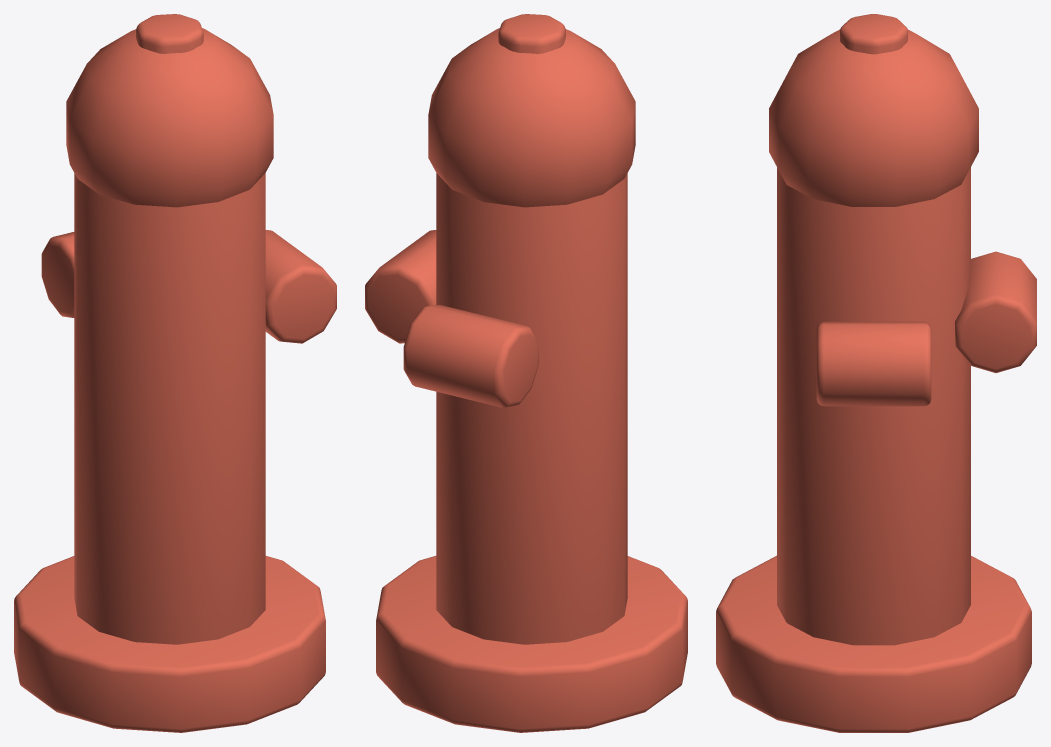
The model's file is th6_hydrant.glb.
The picture shows the model from 3 angles, left to right: view 1: azimuth 30°, elevation 25°; view 2: azimuth 150°, elevation 25°; view 3: azimuth 270°, elevation 25°; orthographic projection.
Parts seen in each view (by area): view 1: Cylinder.001, Cylinder, Sphere, Cylinder.002, Cylinder.003, Cylinder.004; view 2: Cylinder.001, Cylinder, Sphere, Cylinder.003, Cylinder.002, Cylinder.004; view 3: Cylinder.001, Cylinder, Sphere, Cylinder.002, Cylinder.003, Cylinder.004.
Boxes of the visible parts, bbox=[...] form: Cylinder.001: bbox=[74, 173, 265, 644]; Cylinder: bbox=[14, 556, 325, 732]; Sphere: bbox=[66, 28, 273, 207]; Cylinder.002: bbox=[265, 230, 336, 343]; Cylinder.003: bbox=[41, 232, 74, 317]; Cylinder.004: bbox=[136, 14, 203, 53]; Cylinder.001: bbox=[436, 173, 627, 644]; Cylinder: bbox=[376, 556, 687, 732]; Sphere: bbox=[428, 28, 635, 207]; Cylinder.003: bbox=[403, 305, 538, 407]; Cylinder.002: bbox=[365, 230, 436, 343]; Cylinder.004: bbox=[498, 14, 565, 53]; Cylinder.001: bbox=[777, 167, 970, 645]; Cylinder: bbox=[716, 555, 1031, 732]; Sphere: bbox=[769, 29, 978, 206]; Cylinder.002: bbox=[816, 321, 931, 406]; Cylinder.003: bbox=[955, 251, 1036, 372]; Cylinder.004: bbox=[840, 14, 907, 54].
Size of the model in its own units: 0.4415 by 0.99 by 0.4471.
